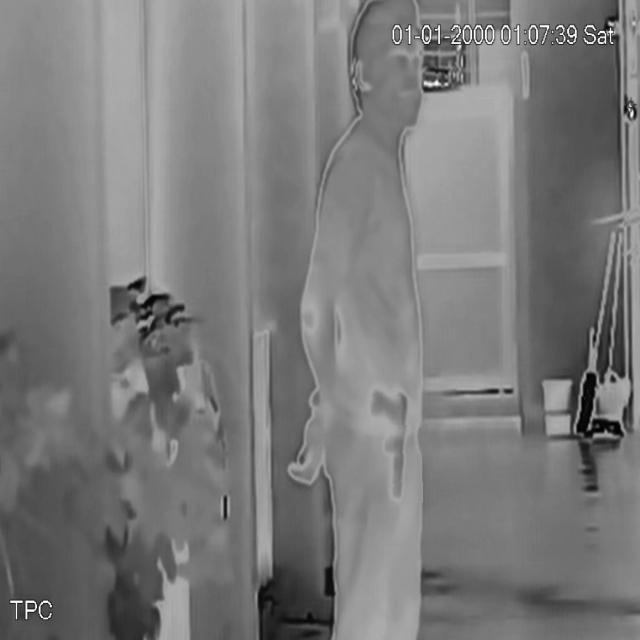Weapon: (370, 374, 422, 504)
